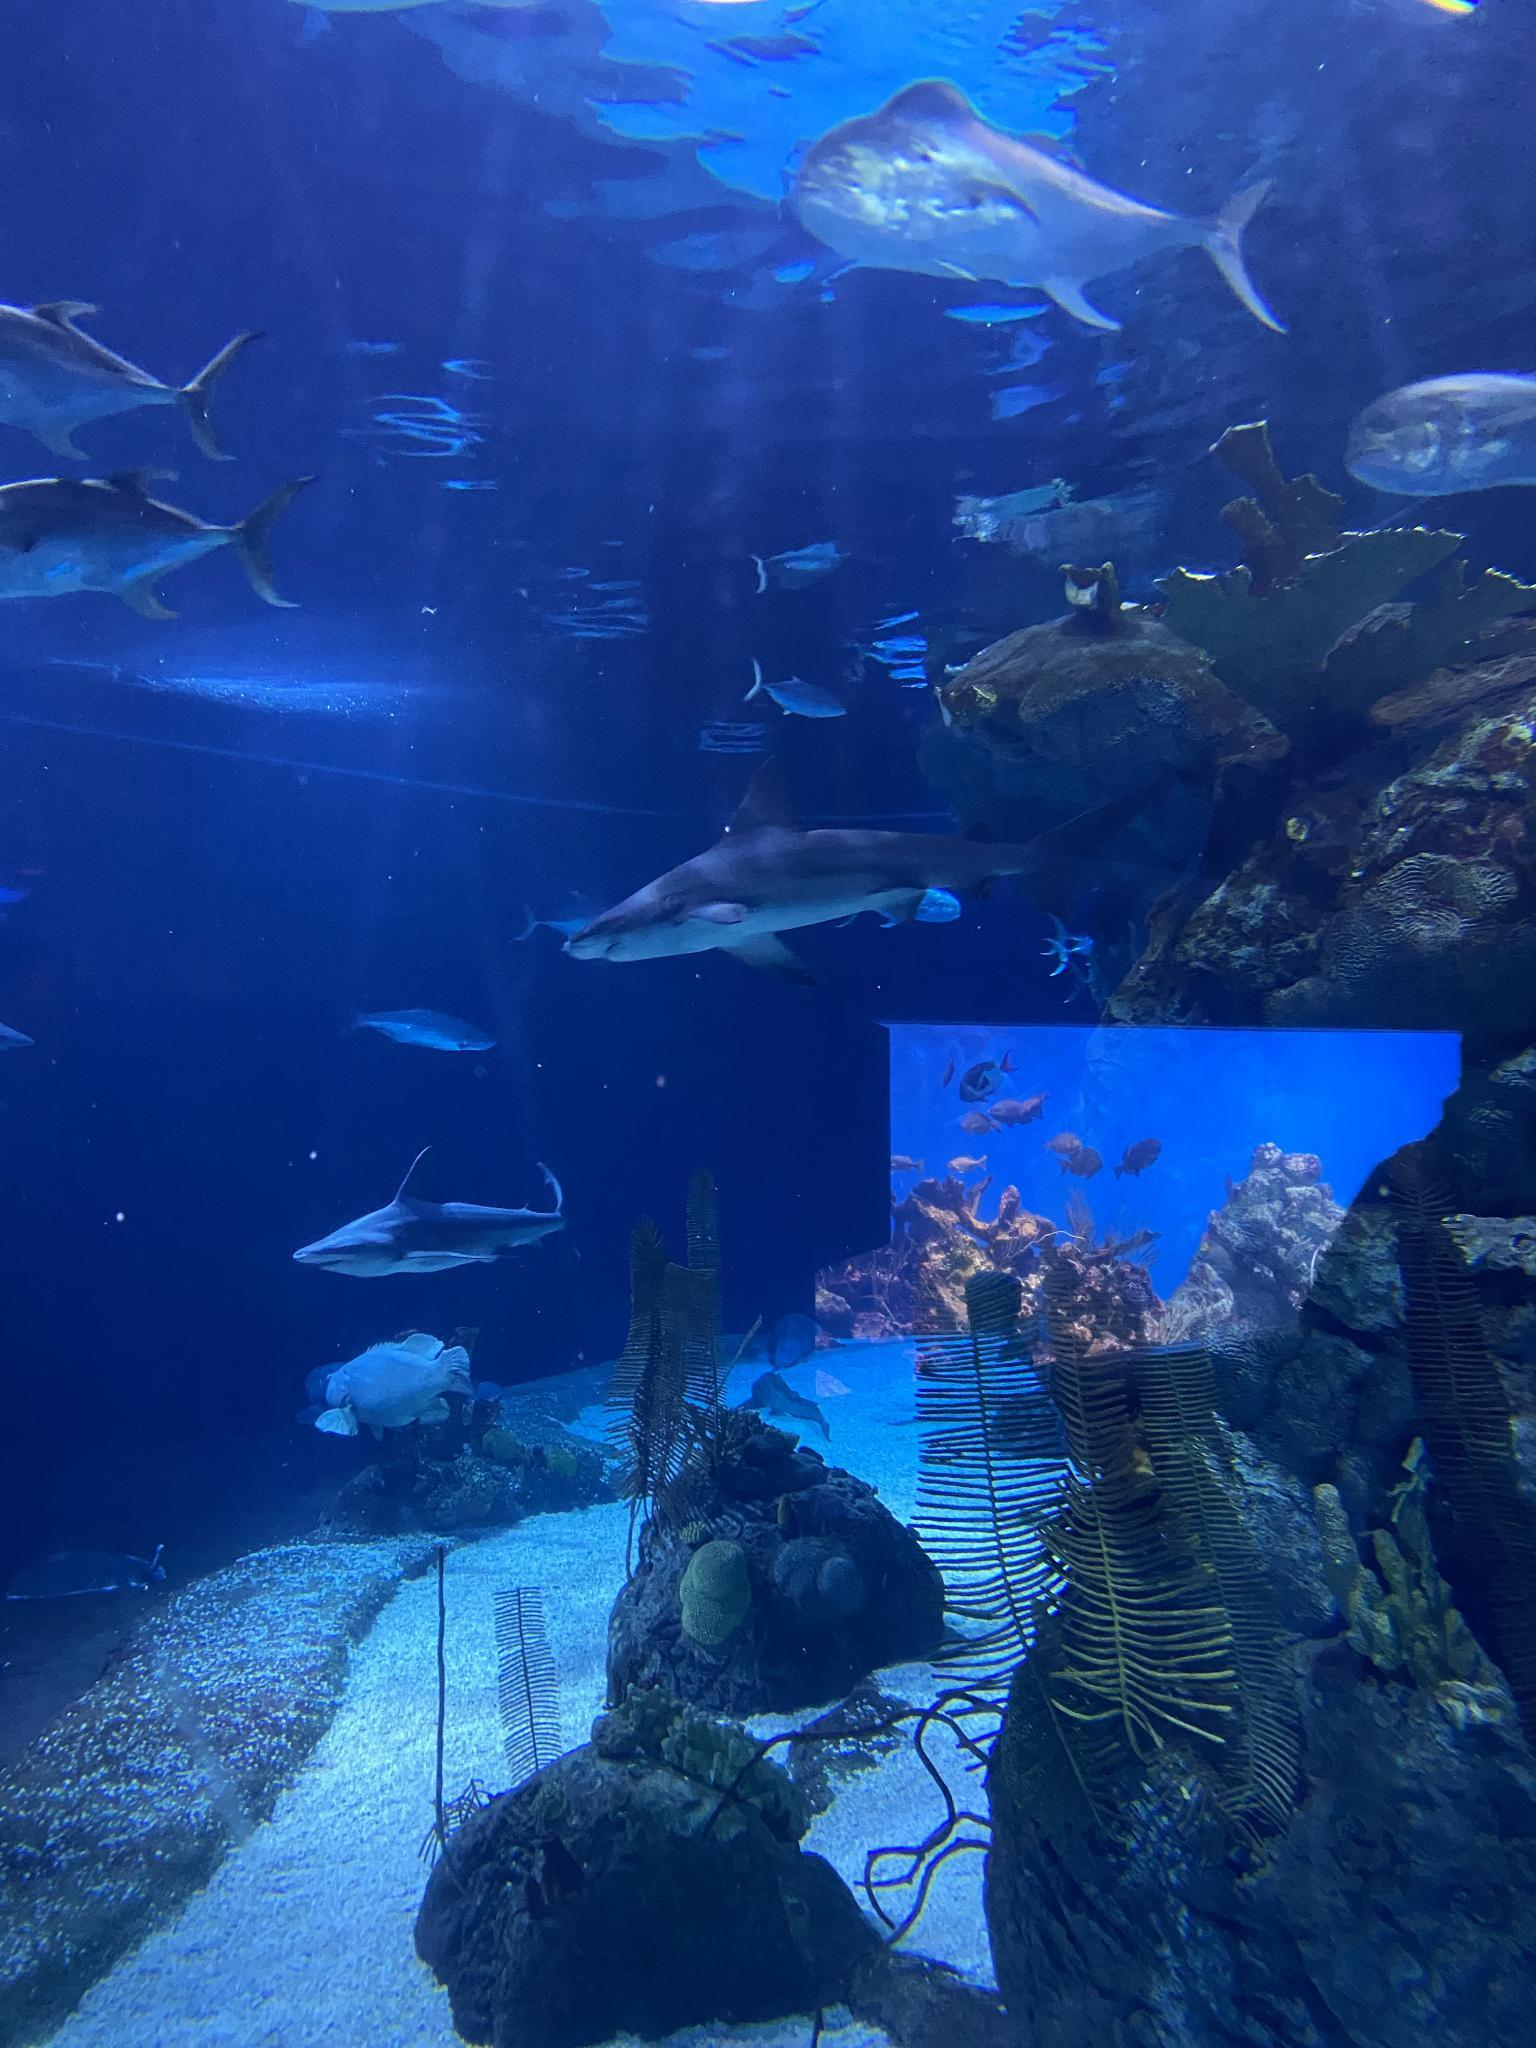fish: (791, 79, 1289, 337), (0, 468, 315, 627), (0, 298, 266, 463), (1349, 374, 1534, 495), (316, 1330, 471, 1443), (350, 1005, 495, 1058), (744, 661, 849, 719), (841, 880, 966, 929), (513, 893, 620, 943), (1042, 913, 1117, 976), (958, 1051, 1016, 1103), (991, 1092, 1049, 1130), (1113, 1135, 1162, 1177), (1055, 1143, 1102, 1180), (949, 1151, 984, 1176), (1041, 1135, 1081, 1155), (963, 1113, 995, 1135), (887, 1155, 921, 1172), (942, 1051, 954, 1089)
shark: (570, 753, 1163, 980), (295, 1147, 570, 1280), (742, 1371, 833, 1443)
stingray: (5, 1546, 166, 1603)
